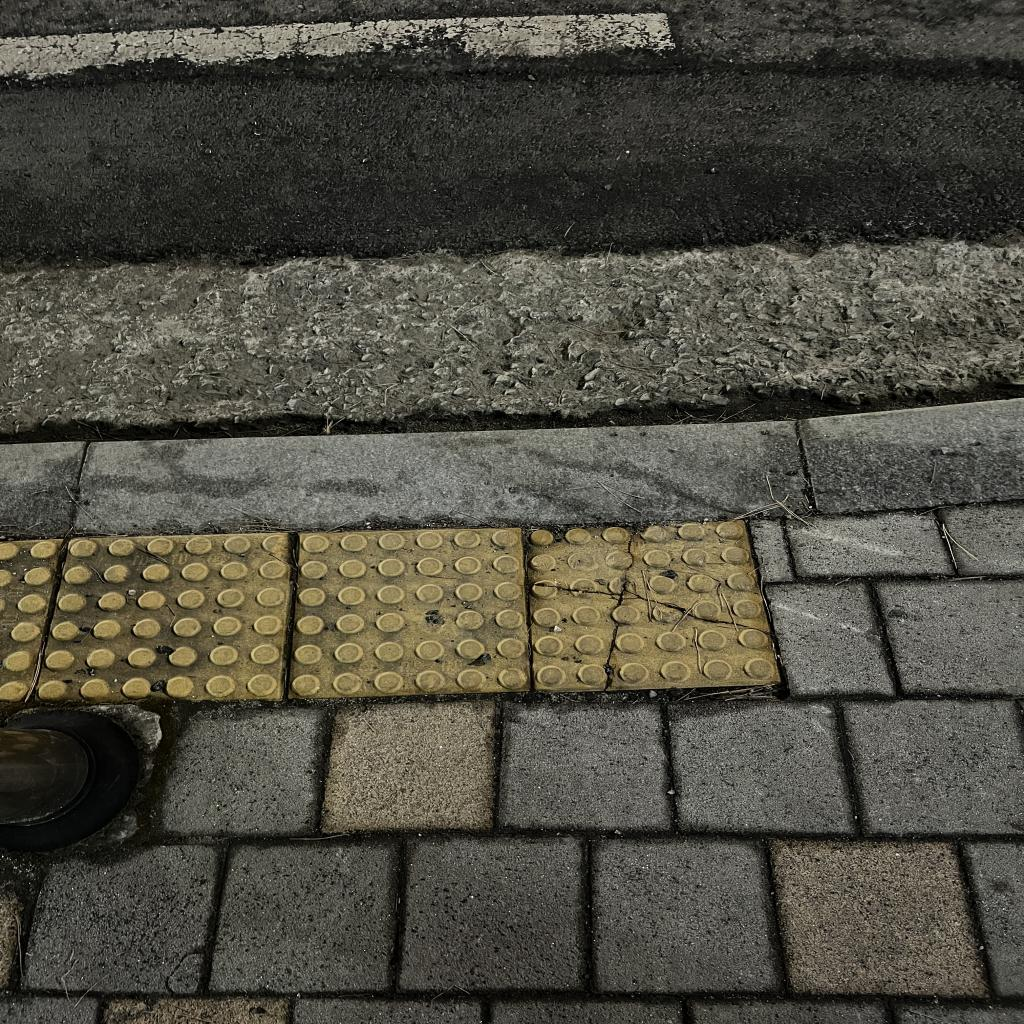Stop block broken: (527, 520, 781, 690)
Stop block normal: (283, 526, 528, 696), (37, 536, 292, 698)
